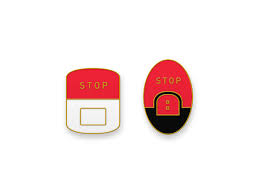bell: (141, 57, 197, 136)
